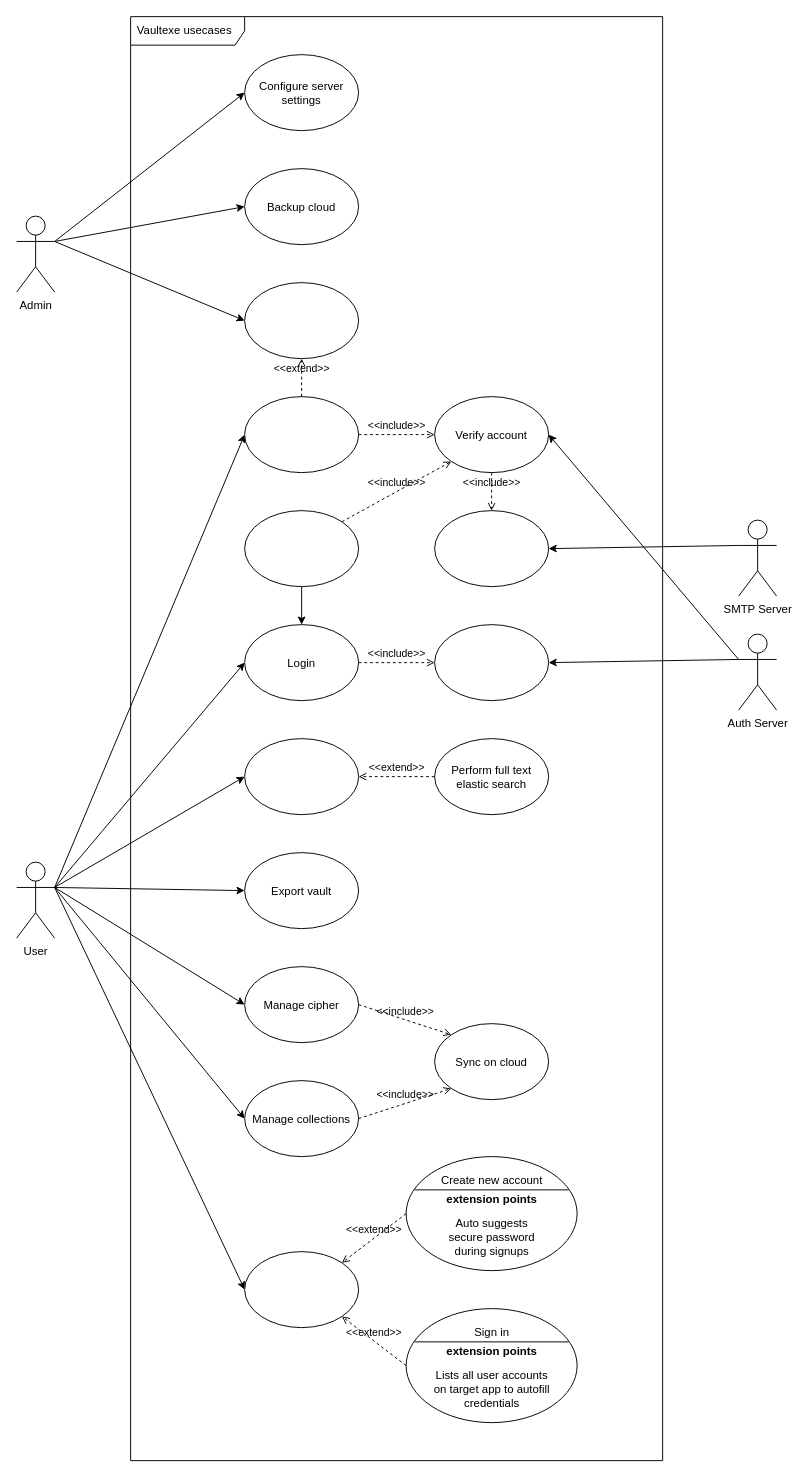
Image size: 808x1477. Some labels were removed from this diagram. The shapes that lost their labels are listed below. From the top down, each one's centre as x and y in pixels, then its label:
[301,320]: Invite user
[301,434]: Register
[301,548]: Login new device
[491,548]: Handle 2fa verification
[491,662]: Authenticate & Autherize
[301,776]: View vault
[301,1289]: Autofill credentials
